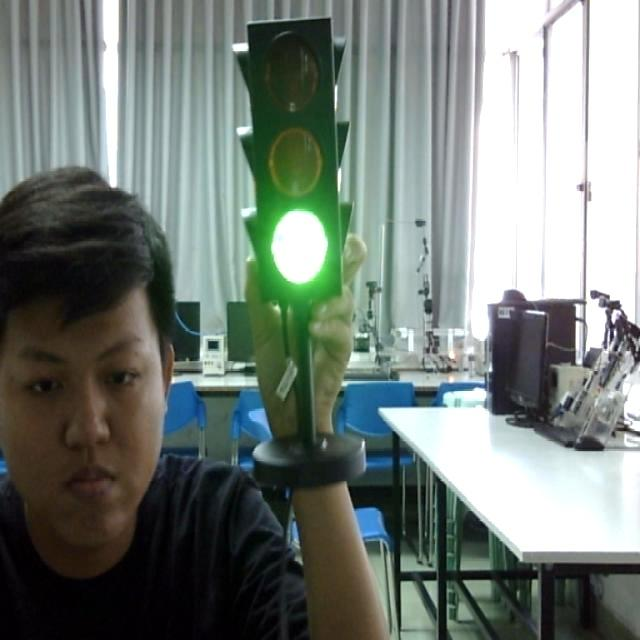Green: (240, 16, 350, 315)
